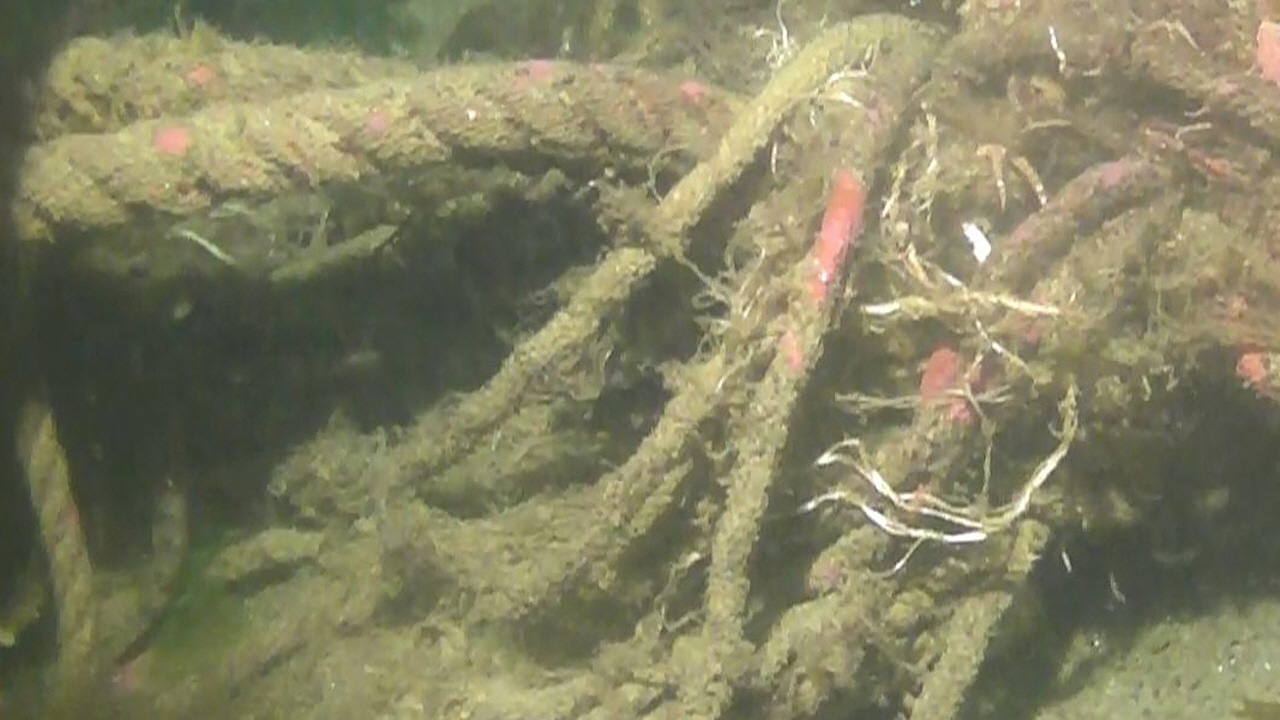bundle of ropes: (11, 8, 1280, 719)
